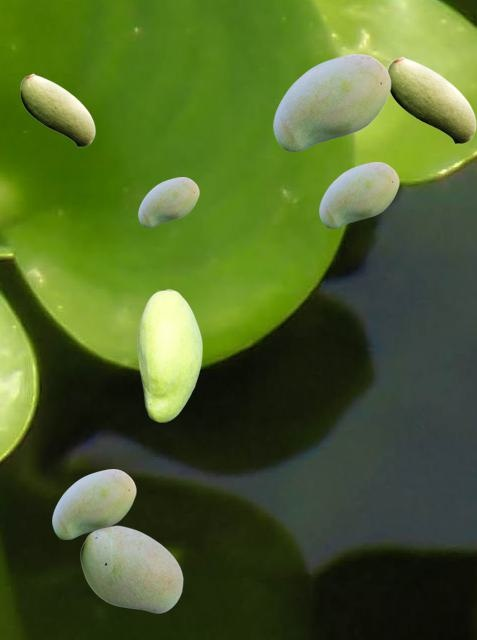green_mango: (273, 54, 390, 150), (80, 525, 182, 612), (137, 289, 201, 421), (387, 56, 475, 143), (52, 469, 135, 538), (20, 73, 94, 146), (319, 162, 398, 227), (138, 177, 198, 226)
